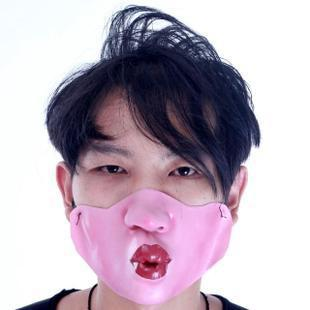OK: (72, 143, 222, 293)
